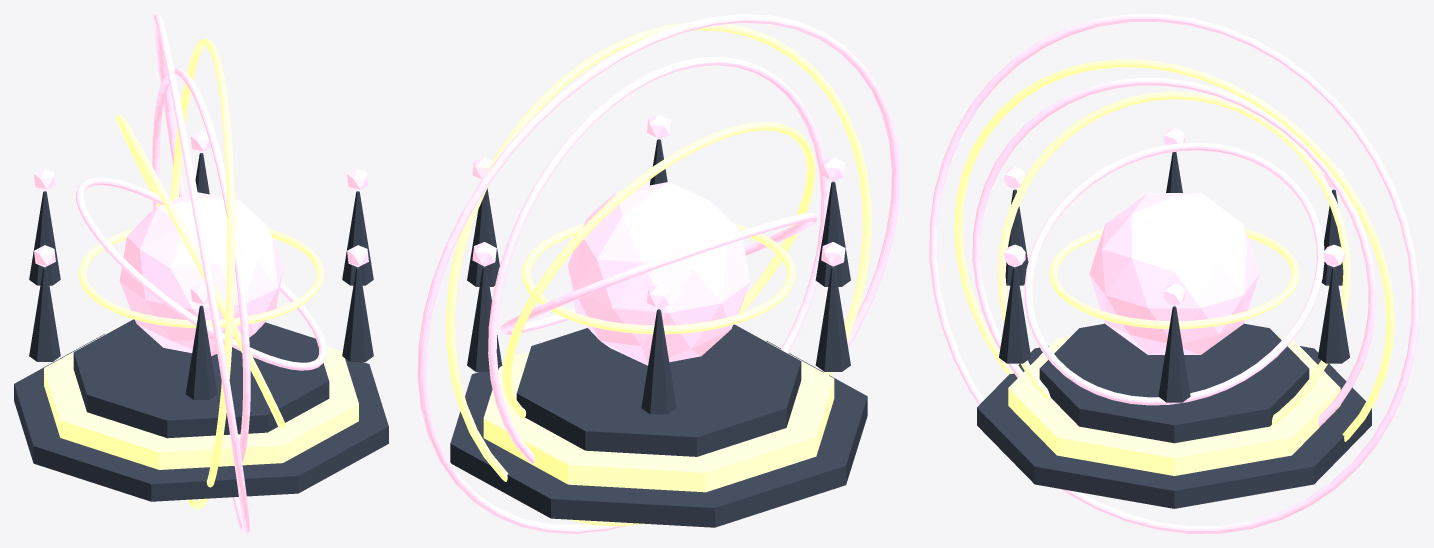
File: gpu-blender-v26.glb
3 views of the same model, side by side, from view 1: azimuth 30°, elevation 25°; view 2: azimuth 150°, elevation 25°; view 3: azimuth 270°, elevation 25° (orthographic). The views are drawn at different scales.
Parts seen in each view (by area): view 1: Cylinder.002, Cylinder, SovereignCore_pixel-cast, Cylinder.001, Torus.005, Torus.004, Torus.003, Torus.001, Torus, Torus.002, Cone.003, Cone.005 (+3 smaller); view 2: Cylinder.002, SovereignCore_pixel-cast, Cylinder, Cylinder.001, Torus.005, Torus.004, Torus.003, Torus.002, Torus.001, Torus, Cone.002, Cone.003 (+3 smaller); view 3: SovereignCore_pixel-cast, Cylinder.002, Cylinder, Cylinder.001, Torus.005, Torus.004, Torus.001, Torus.003, Torus.002, Torus, Cone, Cone.001 (+3 smaller).
Boxes of the visible parts, x1,y1,x2,y2 form: Cylinder.002: (73,319,329,438); Cylinder: (14,334,388,501); SovereignCore_pixel-cast: (119,192,283,356); Cylinder.001: (44,326,358,469); Torus.005: (153,14,249,533); Torus.004: (171,38,235,509); Torus.003: (152,68,250,461); Torus.001: (76,177,326,370); Torus: (78,228,324,327); Torus.002: (116,115,285,428); Cone.003: (29,267,60,361); Cone.005: (342,267,373,361); Cylinder.002: (516,324,801,456); SovereignCore_pixel-cast: (568,182,749,365); Cylinder: (450,341,867,527); Cylinder.001: (483,332,834,492); Torus.005: (417,14,900,533); Torus.004: (446,22,871,526); Torus.003: (488,56,829,463); Torus.002: (502,121,815,418); Torus.001: (500,213,817,334); Torus: (522,223,795,334); Cone.002: (641,309,676,414); Cone.003: (815,267,850,371); SovereignCore_pixel-cast: (1089,193,1259,354); Cylinder.002: (1039,323,1309,443); Cylinder: (977,346,1371,508); Cylinder.001: (1008,336,1340,475); Torus.005: (929,14,1419,533); Torus.004: (954,59,1394,441); Torus.001: (1024,142,1324,405); Torus.003: (972,77,1376,426); Torus.002: (998,91,1350,425); Torus: (1049,228,1299,328); Cone: (1158,306,1190,402); Cone.001: (1318,267,1349,363).
Size of the model in its own units: 4.41 by 5.93 by 5.46.
